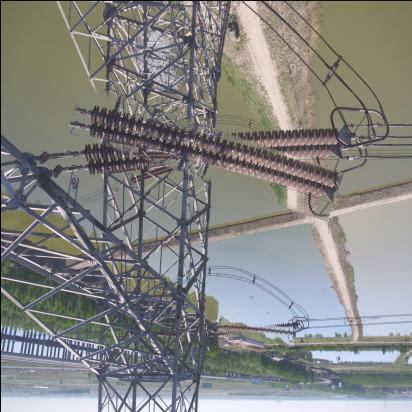insulator: (67, 105, 344, 201), (218, 318, 297, 344)
